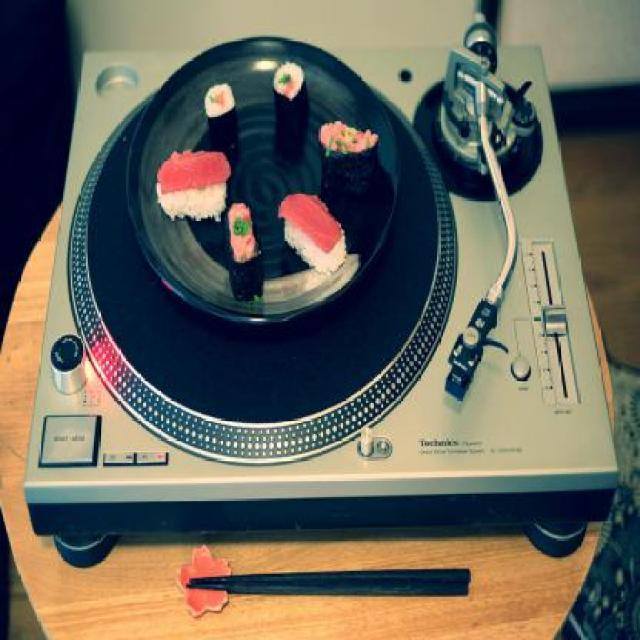Cake: (276, 192, 346, 270), (154, 150, 232, 216), (318, 119, 377, 187), (228, 206, 266, 306), (273, 61, 304, 118), (204, 86, 236, 136)
